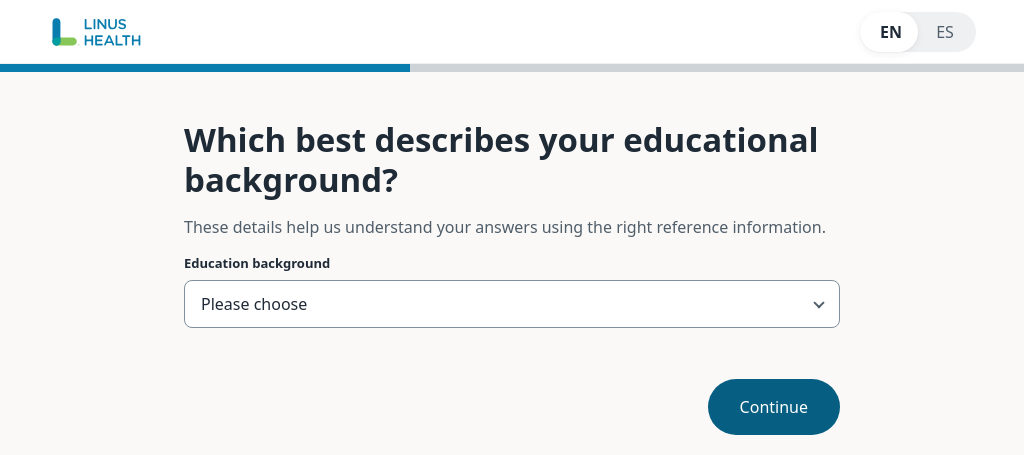
EducationPage › shows an error on the select, using the field-error variant rather than a native validation bubble, when Continue is clicked without a selection
Expected: the text "Please select an education background." is not shown
Click the button "Continue" at (774,407), box [708,379,840,435]
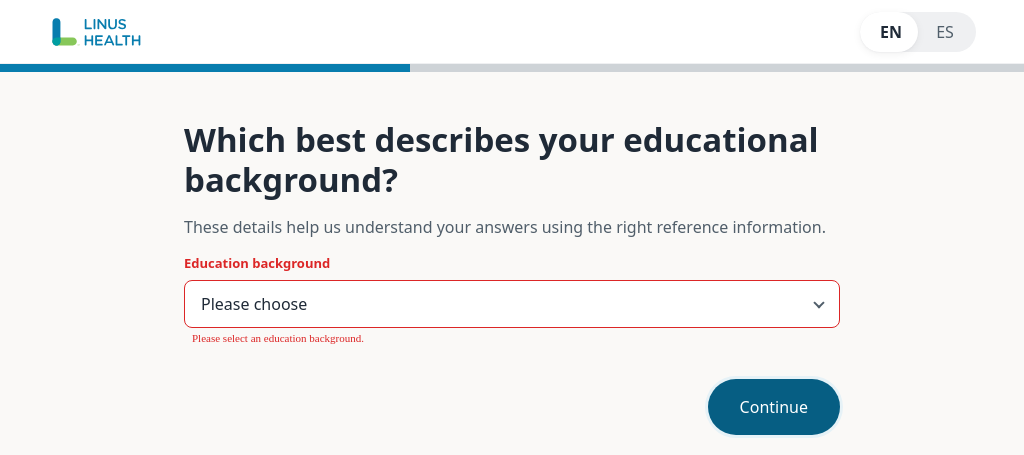
Expected: the text "Please select an education background." is shown, [192,332,364,344]
